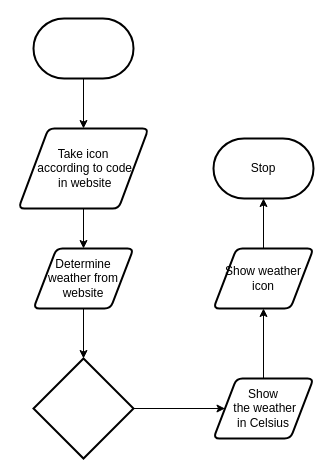
This 331x476 diagram has some shape labels left out. The shapes that lost their labels are listed below. From the top down, each one's box as (x1, y1, x2, y2) in pixels, then its label:
(32, 17, 134, 79): Start
(32, 357, 134, 459): Convert from Kelvin to Celsius
